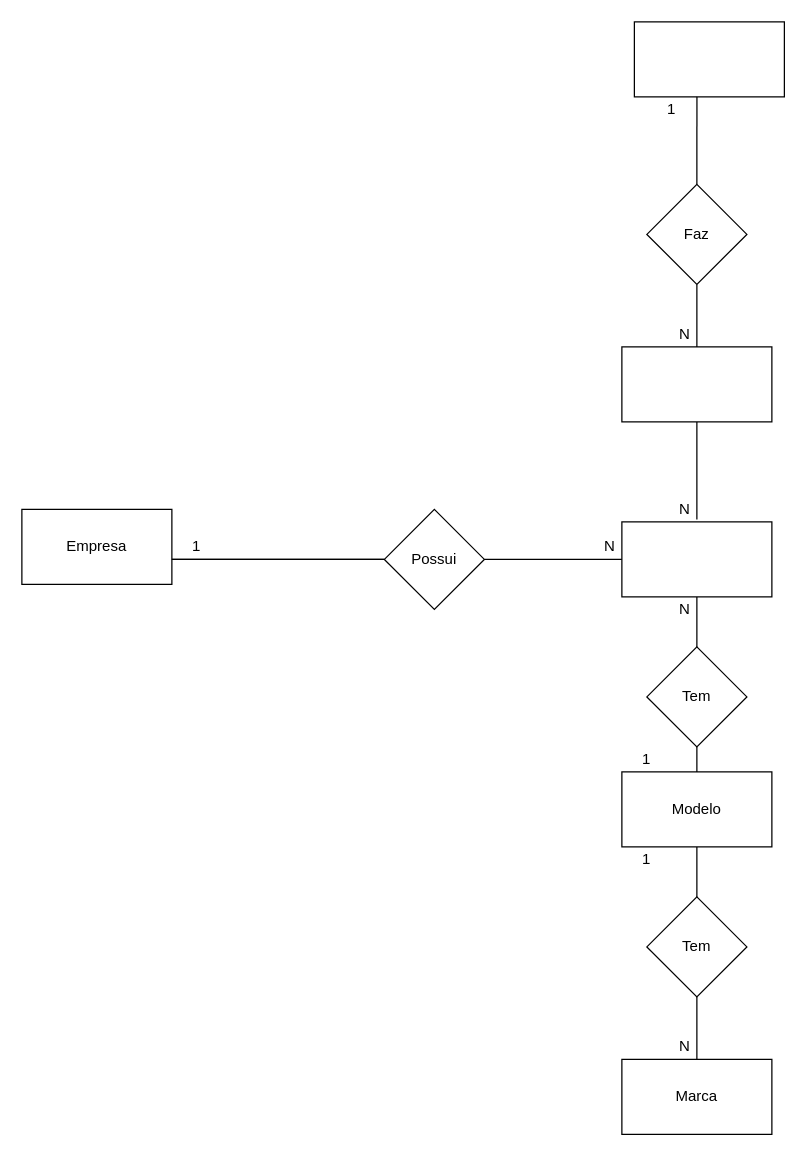
Image size: 806x1156. Some labels were removed from this diagram. Here are the shapes that lost their labels. From the top down, the centre of each, then its label:
At (x=708, y=59): "Cliente".
At (x=696, y=384): "Alugueis".
At (x=696, y=559): "Veículos".
